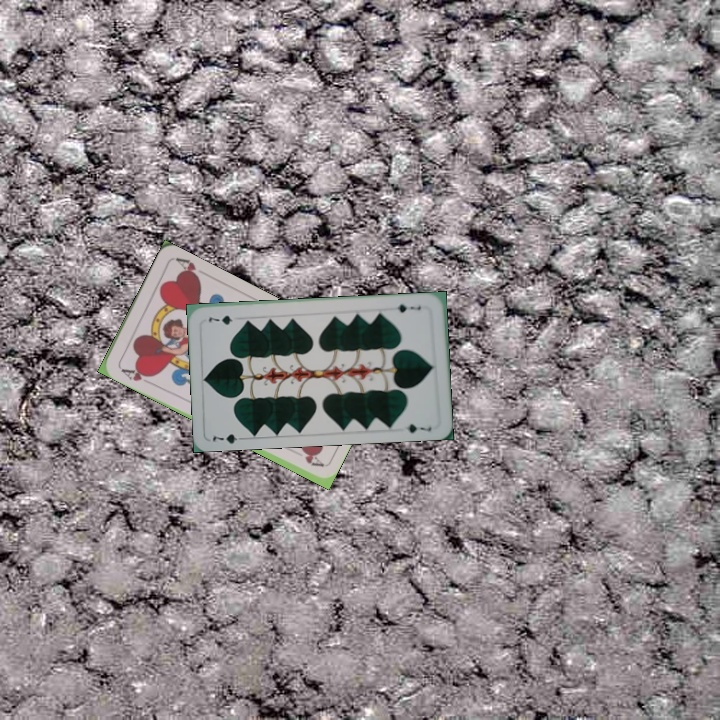G7: (208, 430, 248, 446), (393, 300, 423, 315)
HA: (116, 363, 155, 384)
